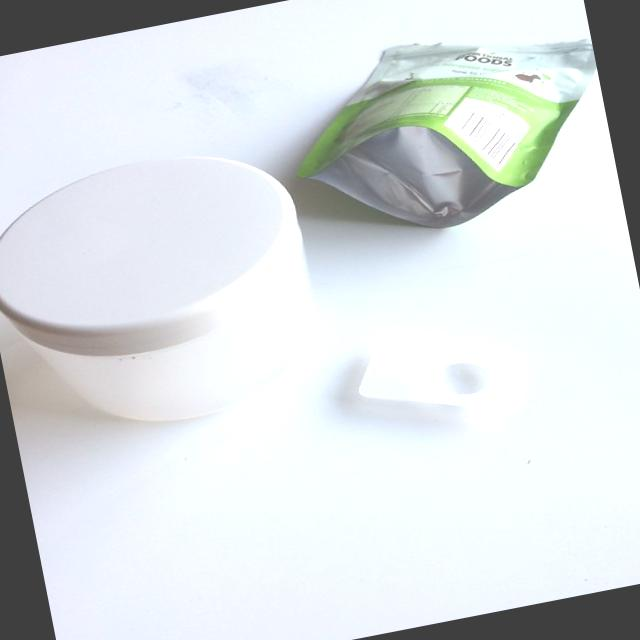Trash: (0, 140, 351, 452), (286, 0, 623, 263), (343, 316, 536, 448)
